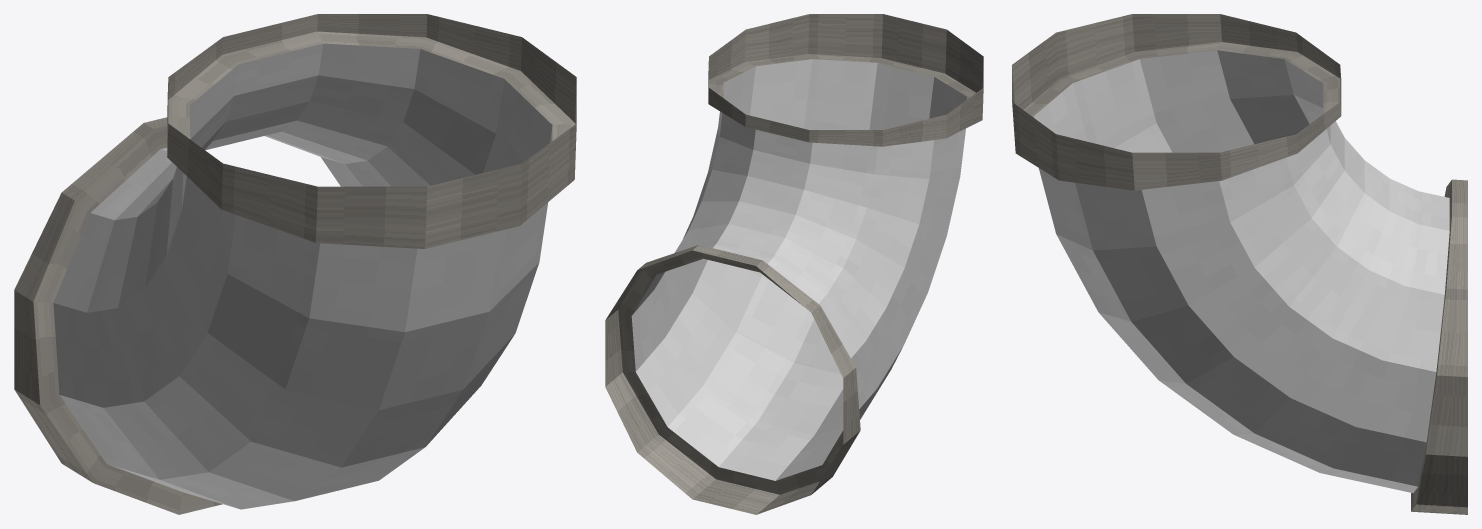
Rendered from connection_6.obj.
3 renders of one model, left to right at view 1: azimuth 30°, elevation 25°; view 2: azimuth 150°, elevation 25°; view 3: azimuth 270°, elevation 25°, orthographic. The views are drawn at different scales.
Bounding box in the file's own units: 0.5625 × 0.7812 × 0.7812.
